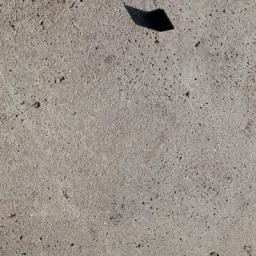FOD: (123, 3, 183, 35)
